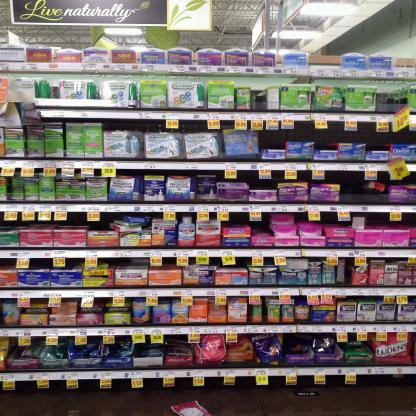Void: (342, 174, 387, 202), (105, 119, 167, 131), (370, 130, 391, 150), (252, 173, 277, 189), (315, 128, 333, 150), (260, 130, 282, 148), (340, 129, 363, 144), (287, 129, 314, 140), (397, 132, 412, 146), (101, 215, 113, 232)
